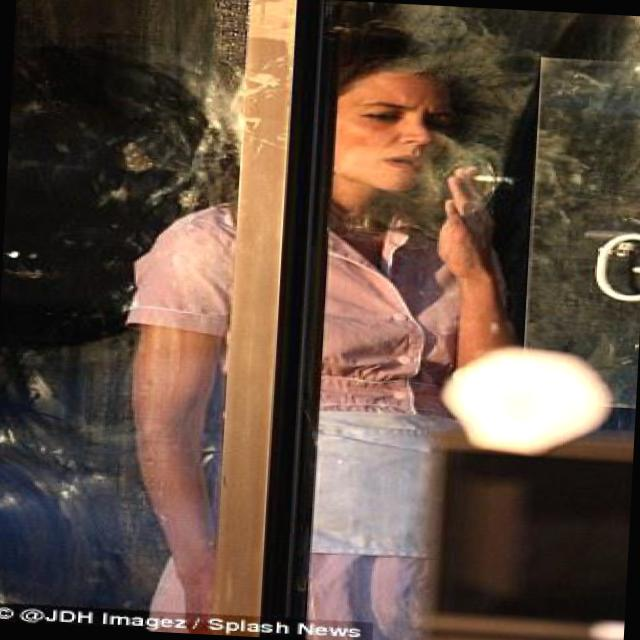smoke: (457, 162, 525, 188)
